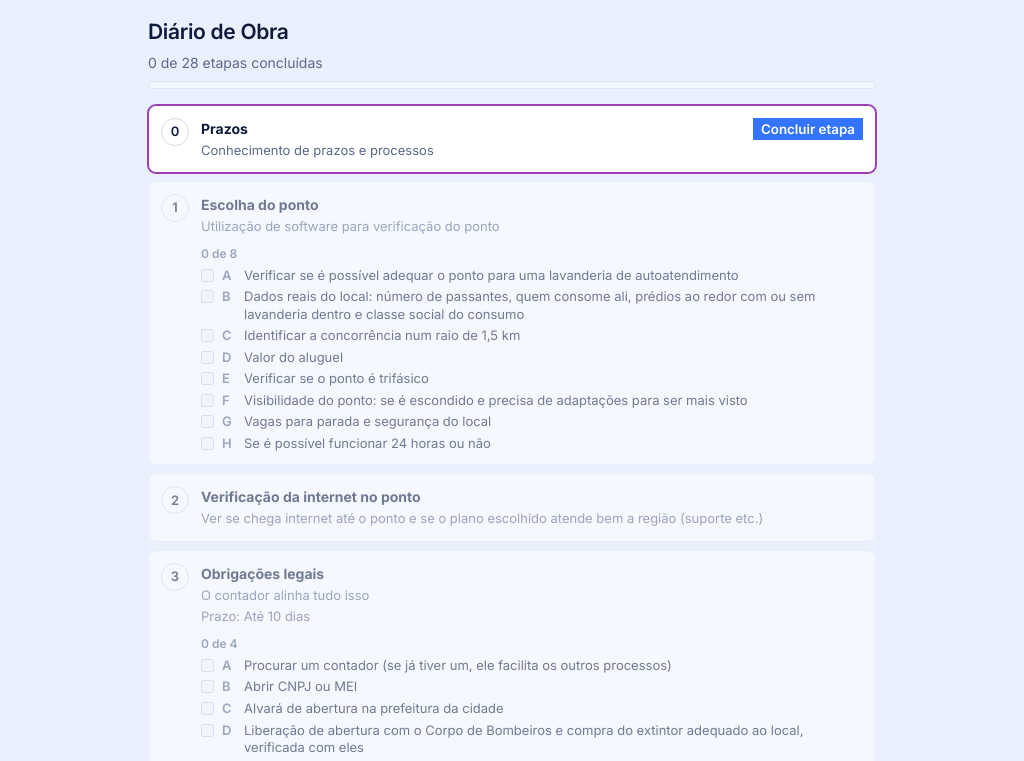
DiarioObra › concluir marca com a data e passa pra próxima
Click the button "Concluir etapa": (808,128) [753, 118, 863, 140]
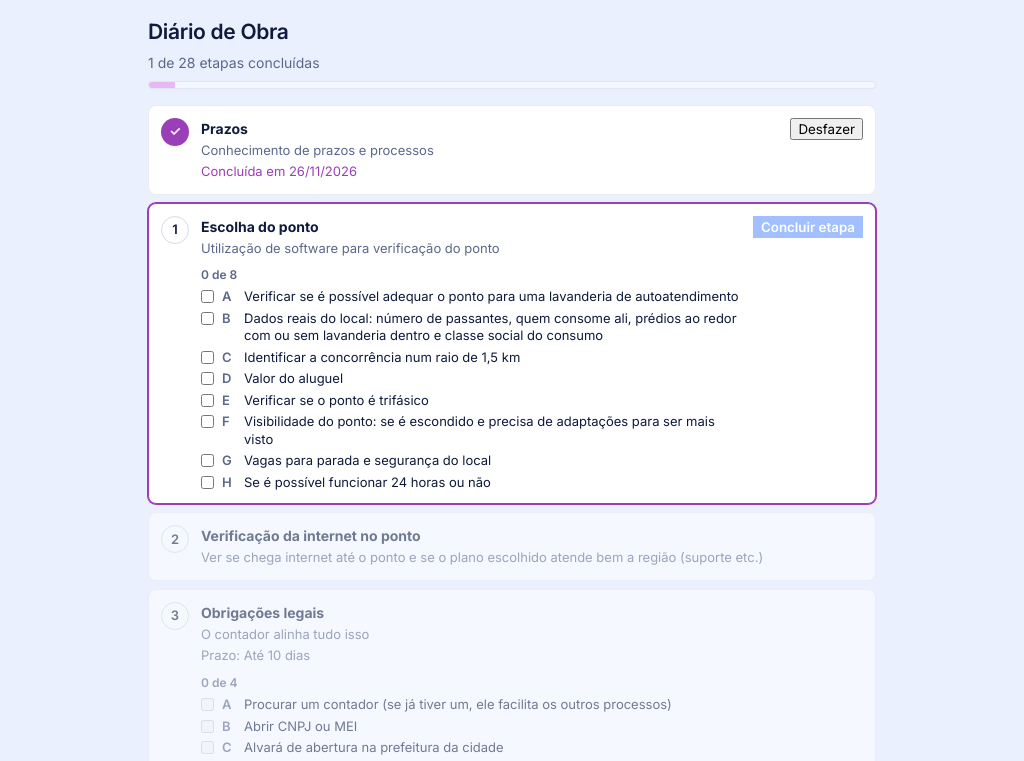
Expected: the text "Concluída em 26/11/2026" is shown, [201, 163, 357, 179]
Expected: the text "1 de 28 etapas concluídas" is shown, [148, 54, 320, 70]
